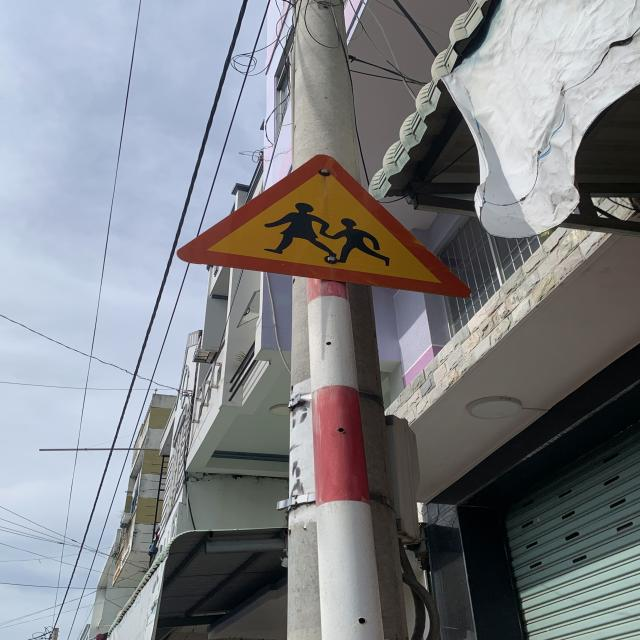Vong_Xuyen: (173, 152, 472, 298)
